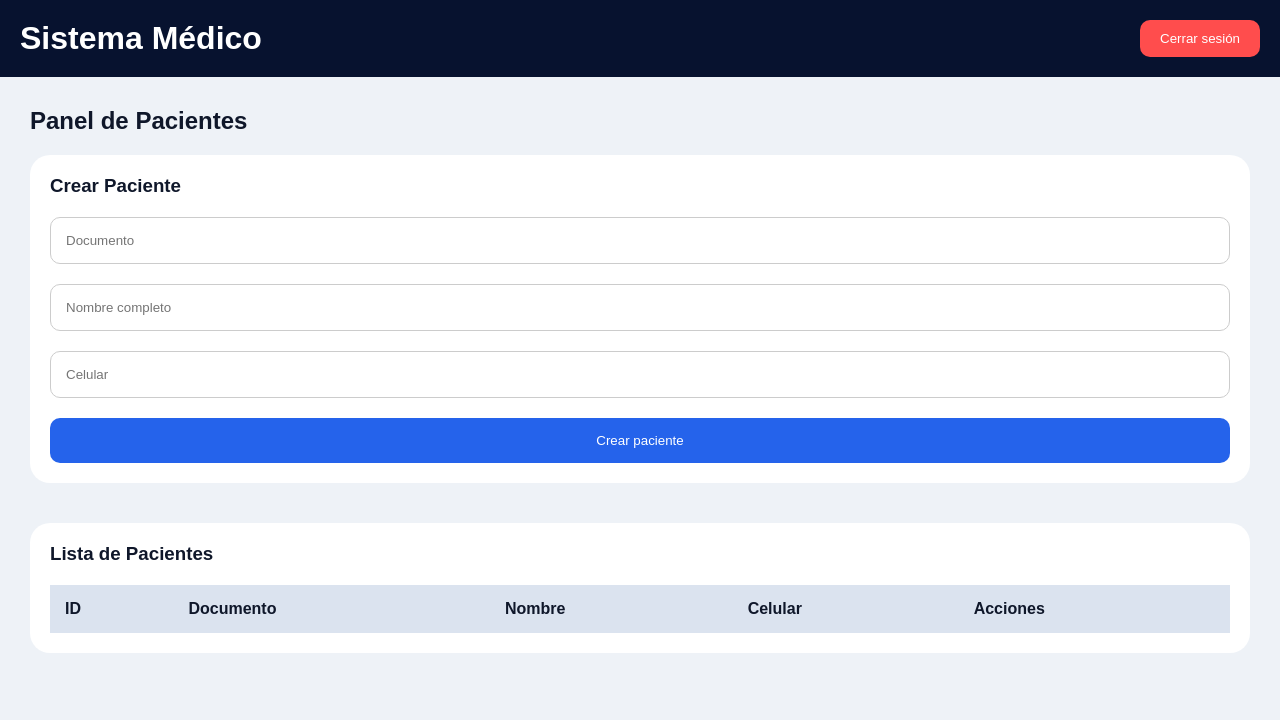
Test: Prueba de Componentes - Panel de Pacientes › filtra caracteres no numéricos en documento y celular
In the field with placeholder "Documento": (640, 240) [50,217,1230,264], type "12abc34"
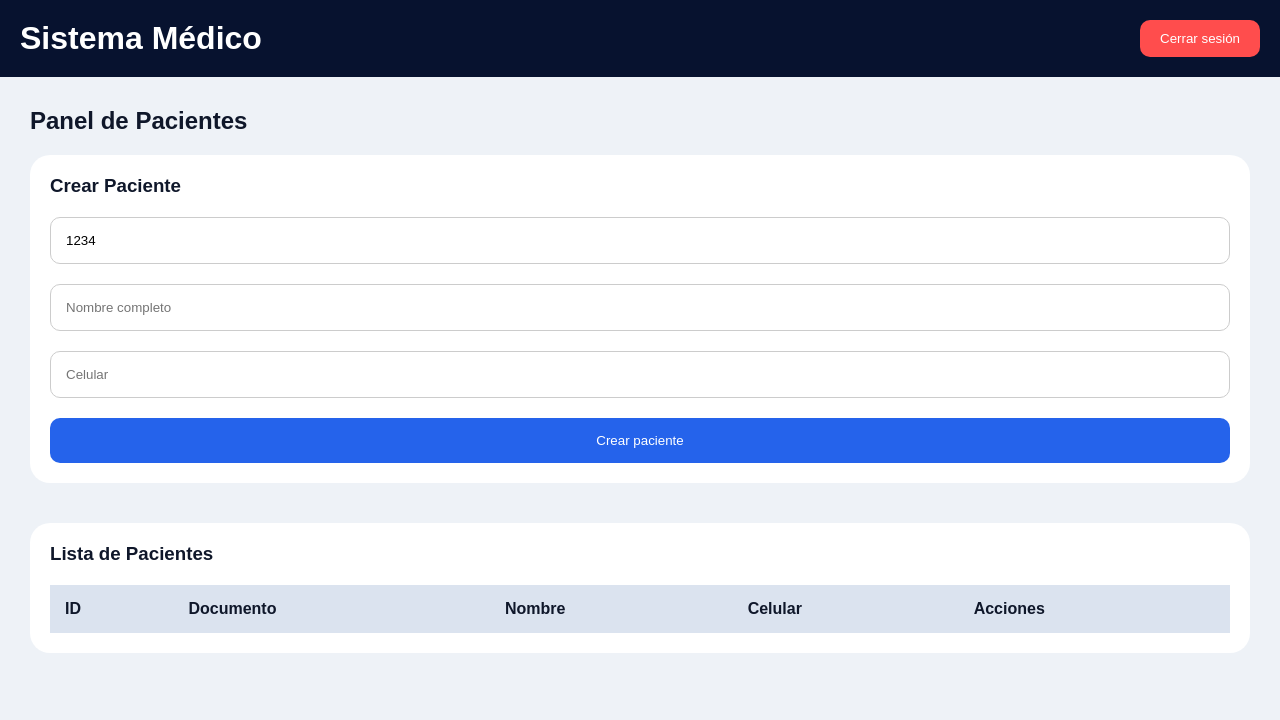
In the field with placeholder "Celular": (640, 374) [50,351,1230,398], type "30x0y1"
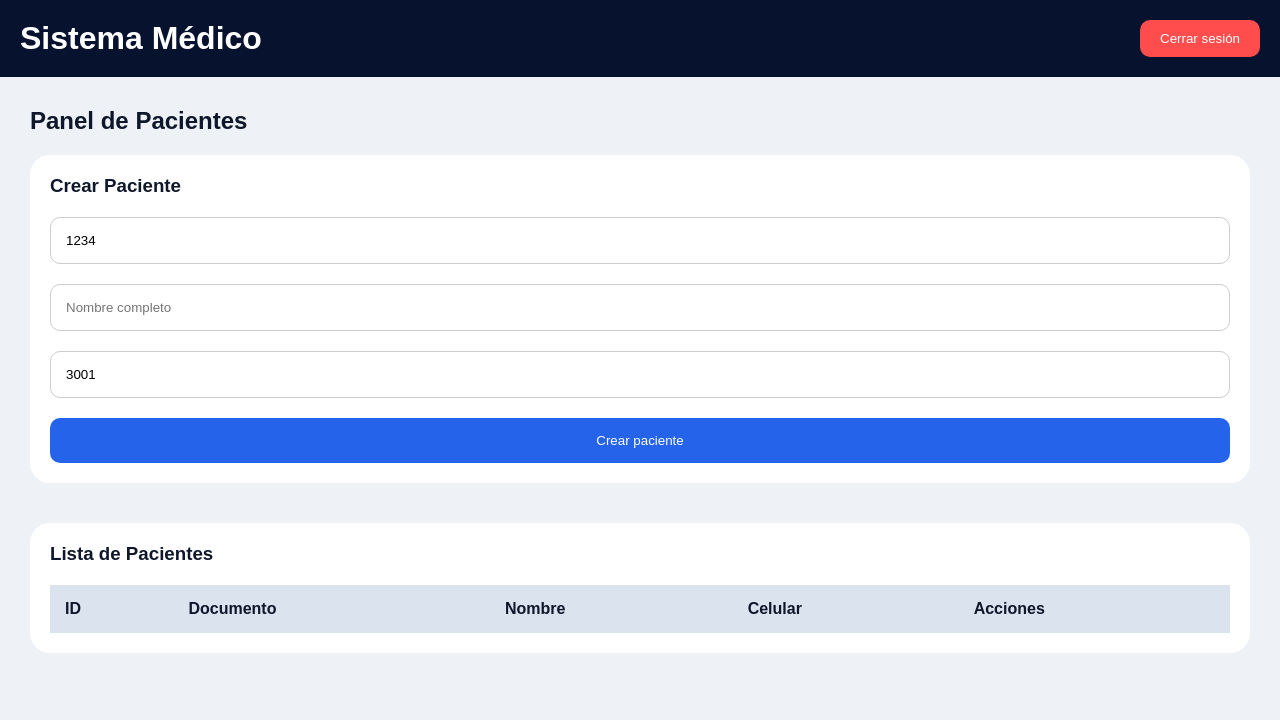
Now the 1st field with placeholder "Documento" holds "1234", box [50,217,1230,264]
Now the 2nd field with placeholder "Celular" holds "3001", box [50,351,1230,398]
